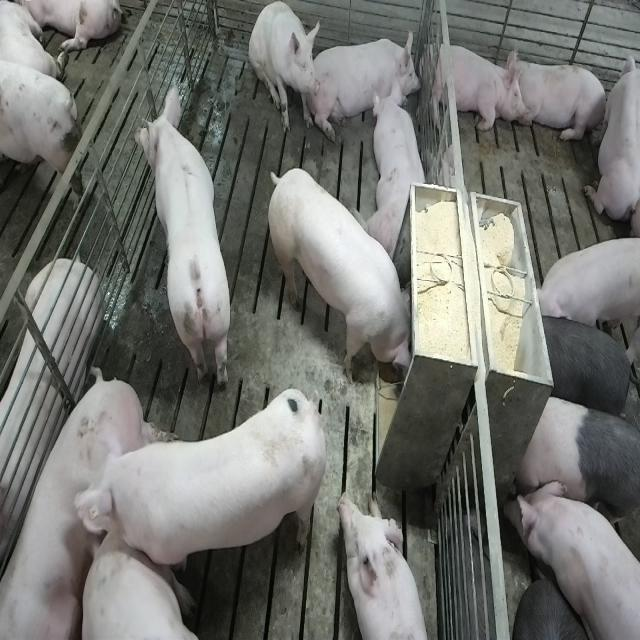Feeding: (264, 166, 412, 386)
Lateral_lying: (0, 369, 166, 640), (0, 256, 103, 616)
Sitting: (249, 2, 321, 137)
Standing: (83, 380, 325, 572), (134, 82, 234, 397), (502, 473, 638, 640), (511, 394, 638, 571), (81, 540, 222, 636), (531, 234, 640, 346), (536, 311, 638, 420)
Sternal_lying: (338, 490, 433, 640), (313, 26, 422, 136), (369, 84, 430, 264), (583, 42, 637, 230), (426, 37, 524, 135), (509, 51, 608, 146)
